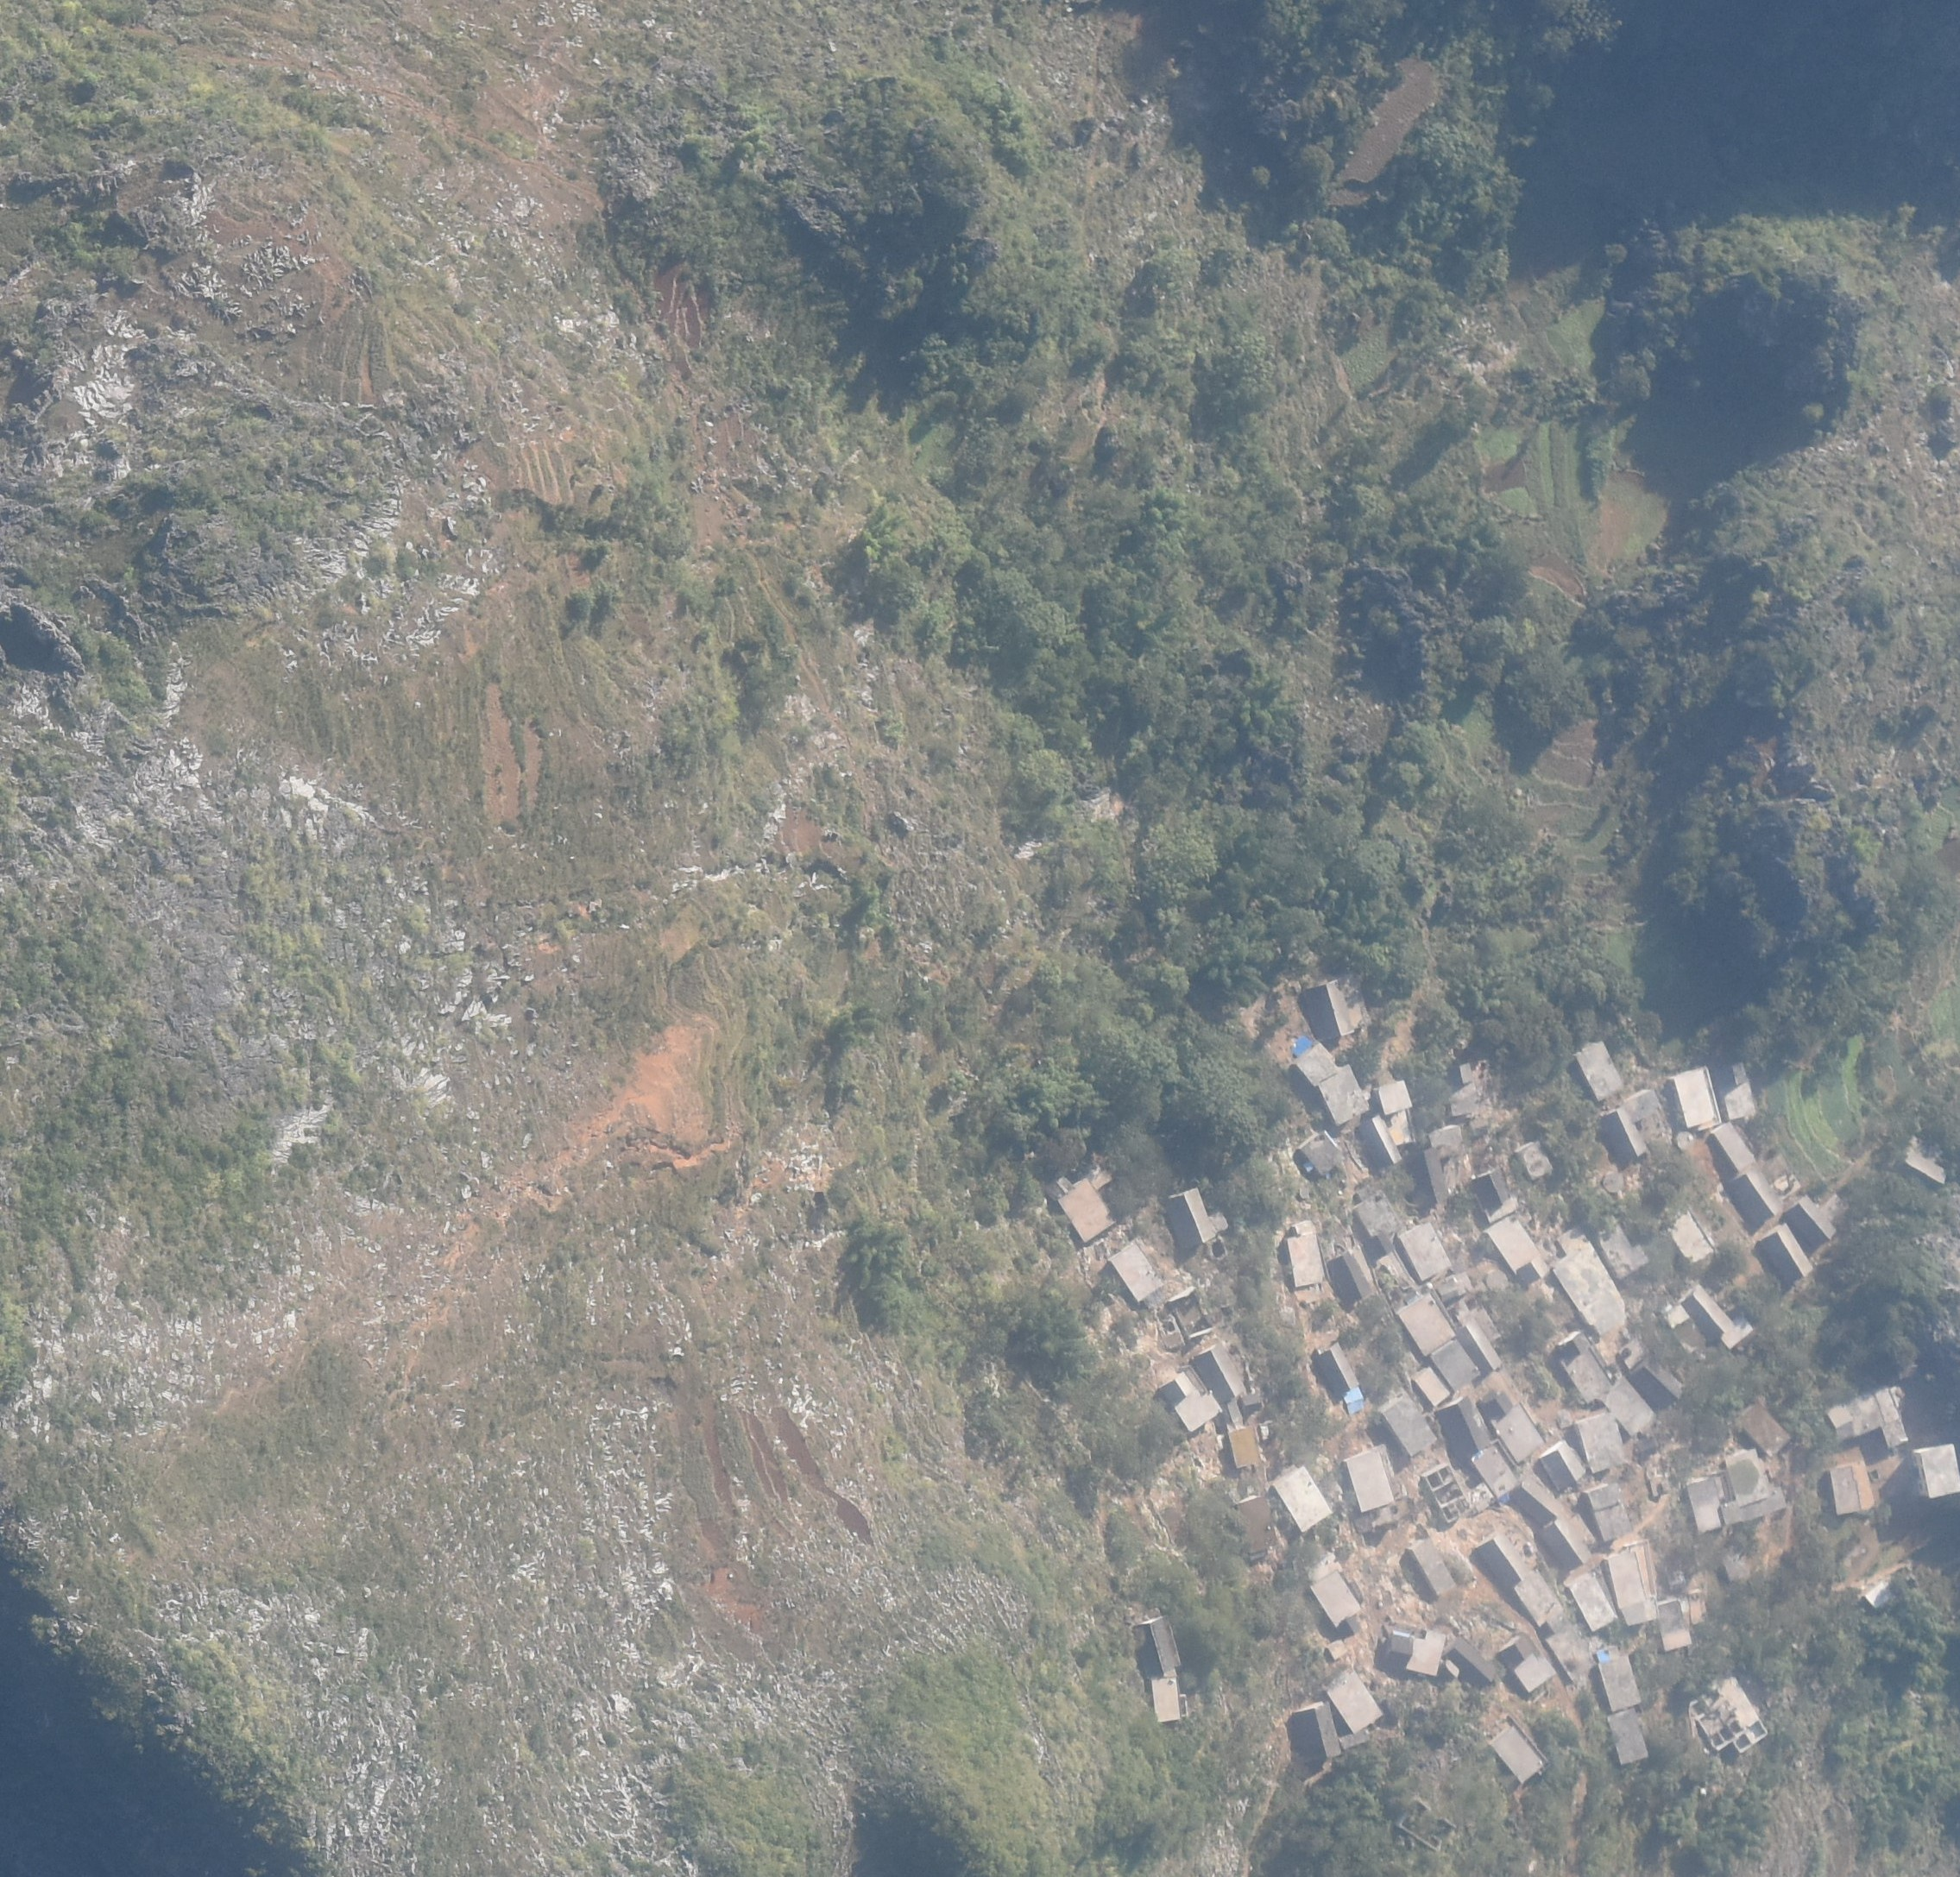building: (1477, 1534, 1592, 1681), (1556, 1331, 1657, 1436), (1687, 1448, 1785, 1531), (1554, 1223, 1629, 1329), (1662, 1282, 1755, 1354), (1293, 1044, 1370, 1125), (1690, 1678, 1769, 1753), (1827, 1385, 1907, 1445), (1306, 973, 1372, 1043), (1482, 1391, 1542, 1462), (1055, 1176, 1116, 1244), (1272, 1466, 1332, 1536), (1605, 1541, 1654, 1625), (1487, 1214, 1549, 1279), (1397, 1291, 1454, 1357), (1326, 1671, 1384, 1735), (1160, 1371, 1221, 1431), (1662, 1198, 1715, 1263), (1344, 1448, 1395, 1515), (1108, 1244, 1162, 1303), (1596, 1644, 1643, 1711), (1400, 1798, 1456, 1854), (1192, 1342, 1244, 1401), (1584, 1482, 1635, 1543), (1438, 1398, 1489, 1459), (1400, 1219, 1451, 1280), (1759, 1225, 1815, 1279), (1724, 1167, 1782, 1219), (1494, 1725, 1545, 1784), (1384, 1396, 1435, 1455), (1673, 1069, 1722, 1130), (1738, 1399, 1790, 1455), (1503, 1637, 1556, 1693), (1423, 1464, 1472, 1524), (1575, 1041, 1624, 1100), (1577, 1412, 1624, 1473), (1286, 1219, 1326, 1289), (1311, 1573, 1360, 1629), (1409, 1539, 1456, 1597), (1474, 1440, 1519, 1499), (1368, 1233, 1412, 1294), (1171, 1188, 1214, 1249), (1626, 1086, 1669, 1148), (1631, 1354, 1683, 1405), (1570, 1574, 1615, 1632), (1388, 1630, 1445, 1676), (1599, 1106, 1645, 1163), (1375, 1079, 1414, 1144), (1445, 1637, 1493, 1690), (1328, 1251, 1372, 1307), (1137, 1618, 1179, 1676), (1785, 1193, 1834, 1242), (1608, 1707, 1648, 1767), (1316, 1342, 1356, 1401), (1433, 1336, 1479, 1389), (1235, 1496, 1274, 1557), (1360, 1113, 1402, 1169), (1715, 1062, 1755, 1120), (1449, 1300, 1500, 1345), (1830, 1462, 1874, 1515), (1297, 1706, 1340, 1758), (1543, 1522, 1589, 1571), (1712, 1120, 1755, 1170), (1918, 1445, 1960, 1497), (1459, 1321, 1501, 1373), (1906, 1130, 1948, 1183), (1412, 1146, 1447, 1209), (1515, 1480, 1563, 1525), (1654, 1601, 1694, 1653), (1354, 1190, 1397, 1237), (1545, 1440, 1585, 1489), (1452, 1060, 1486, 1118), (1300, 1130, 1342, 1174), (1153, 1672, 1188, 1725), (1227, 1426, 1262, 1469), (1515, 1139, 1552, 1179), (1477, 1165, 1510, 1209), (1412, 1368, 1451, 1403), (1428, 1127, 1465, 1160), (1465, 1480, 1496, 1515), (1435, 1273, 1475, 1300), (1864, 1581, 1897, 1613), (1309, 1552, 1342, 1581), (1088, 1165, 1116, 1188), (1239, 1391, 1262, 1413), (1207, 1209, 1227, 1233), (1340, 1732, 1367, 1749), (1326, 1639, 1346, 1658)
prefabricated-house: (1344, 1384, 1363, 1413)
well: (1603, 1169, 1626, 1195), (1486, 1270, 1507, 1293), (1675, 1128, 1694, 1151), (1556, 1410, 1573, 1429)
